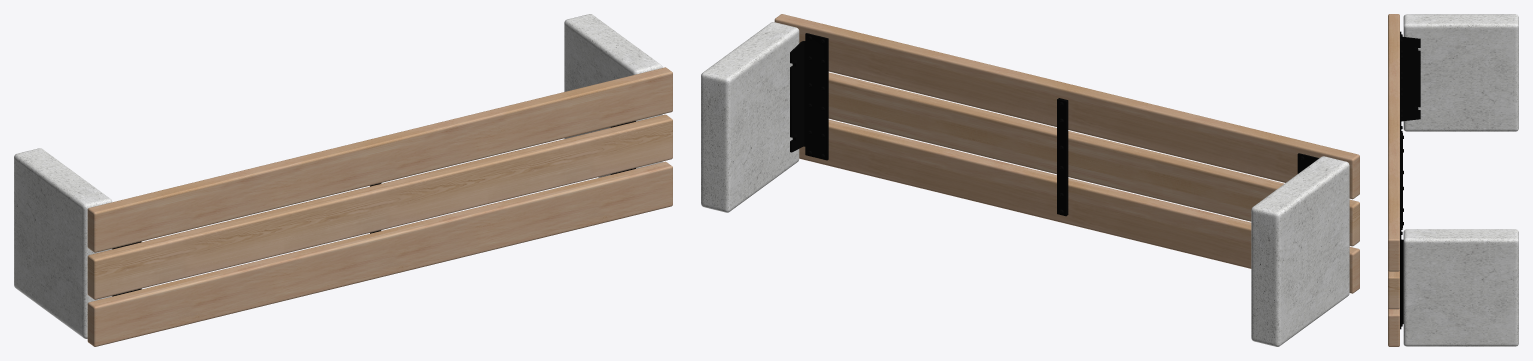
File: Burri_Maro_oRL.obj
3 views of the same model, side by side, from view 1: azimuth 30°, elevation 25°; view 2: azimuth 150°, elevation 25°; view 3: azimuth 270°, elevation 25° (orthographic). The views are drawn at different scales.
Parts seen in each view (by area): view 1: Burri_Maro_oRL; view 2: Burri_Maro_oRL; view 3: Burri_Maro_oRL.
Part boxes in pixels (<box>): Burri_Maro_oRL: <box>14,14,672,346</box>; Burri_Maro_oRL: <box>701,14,1359,346</box>; Burri_Maro_oRL: <box>1388,14,1518,346</box>.
Bounding box in the file's own units: 180 × 40 × 44.
Materials: 4 (2 with a texture image).
